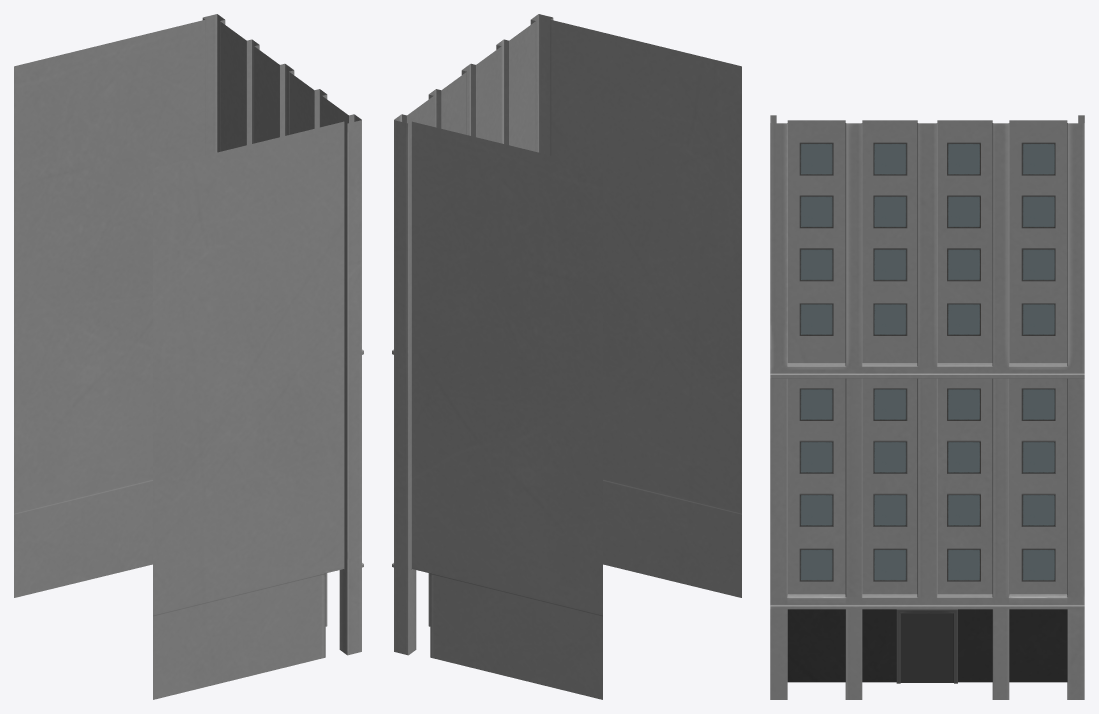
The model's file is paulista_predio03.fbx.
3 renders of one model, left to right at view 1: azimuth 30°, elevation 25°; view 2: azimuth 150°, elevation 25°; view 3: azimuth 270°, elevation 25°, orthographic. The views are drawn at different scales.
Visible parts, largest first — view 1: Predio03; view 2: Predio03; view 3: Predio03.
Boxes of the visible parts, bbox=[...] form: Predio03: bbox=[14, 14, 363, 699]; Predio03: bbox=[392, 14, 741, 699]; Predio03: bbox=[770, 115, 1084, 699].
Bounding box in the file's own units: 745 × 1821 × 899.
